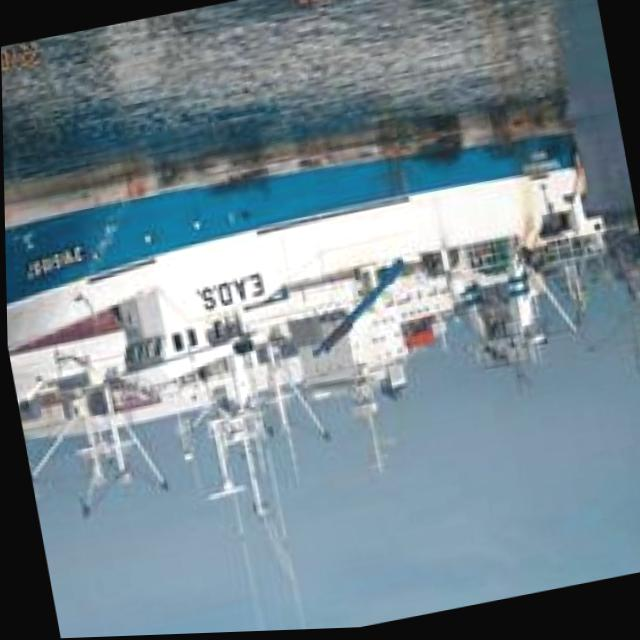ship2: (4, 137, 584, 424)
